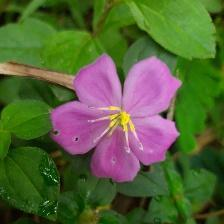malabar melastome: (53, 54, 186, 185)
